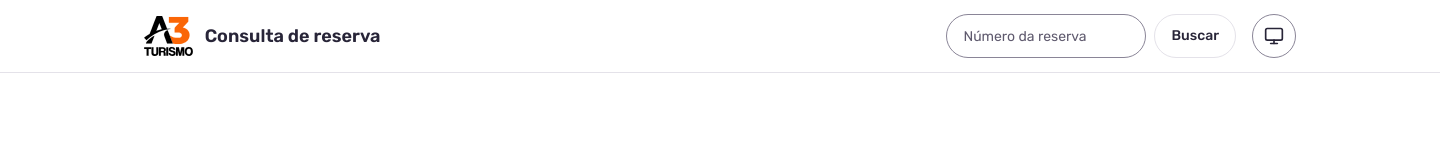
Scenario: busca vazia não navega e marca o campo
Click the button "Buscar": (1195, 36) 1154,14 -> 1236,58
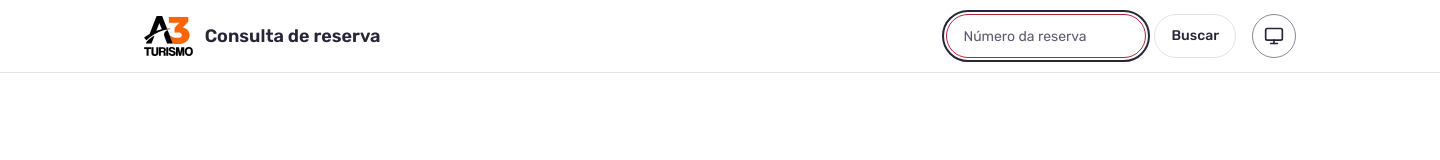
Expected: the field labelled "Número da reserva" is marked as invalid
In the field labelled "Número da reserva": (1046, 36) 946,14 -> 1146,58, type "9"
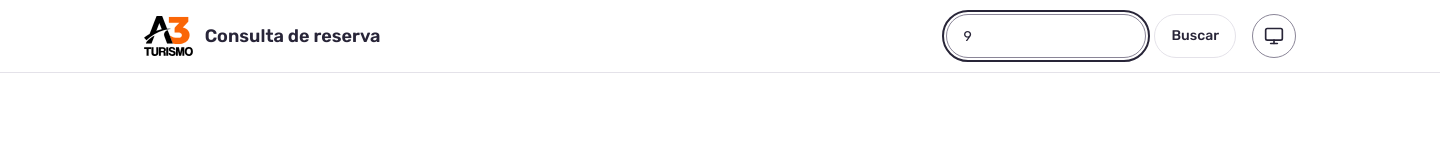
Expected: the field named "Número da reserva" does not have attribute aria-invalid="true", 946,14 -> 1146,58
